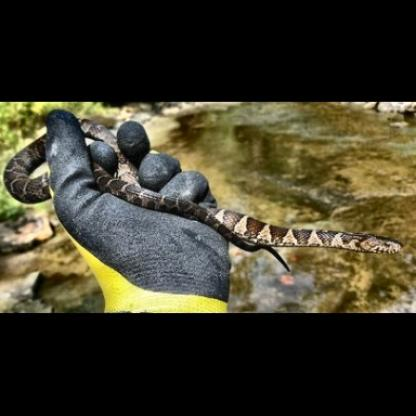Snake: (120, 194, 406, 273)
